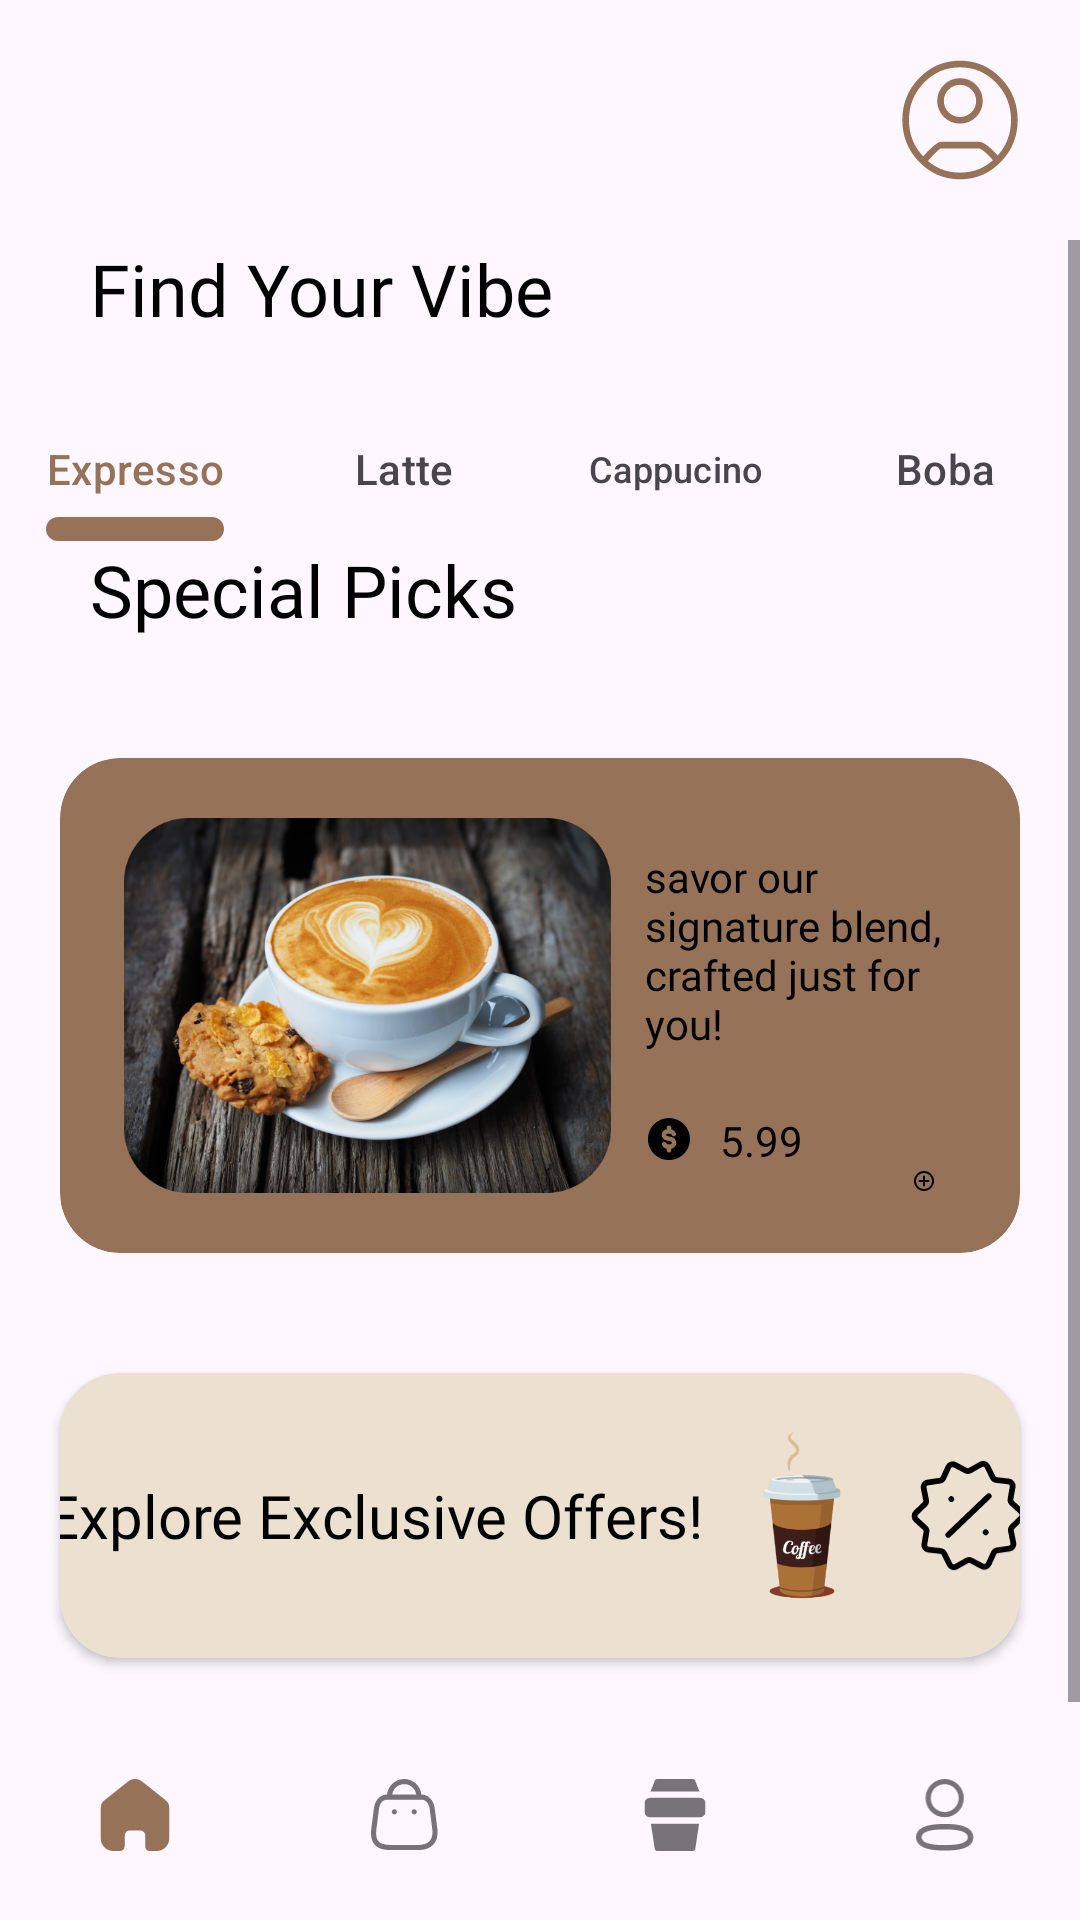

Icon click points for this 1080w x 1920h phone screenshot, format [x,y]:
dollar coin: [669,1139]
tallcofeecup: [802,1515]
user profile circle: [960,120]
